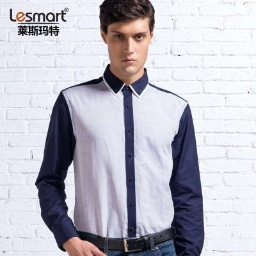face: (98, 1, 156, 80)
